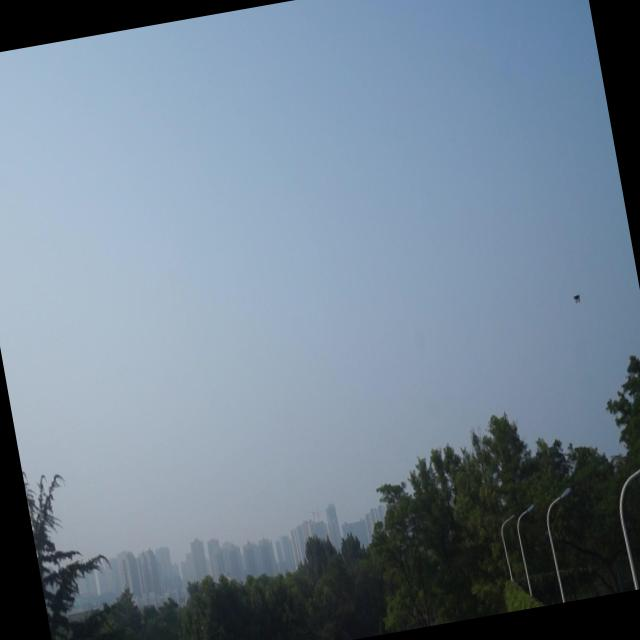drone: (569, 288, 583, 308)
